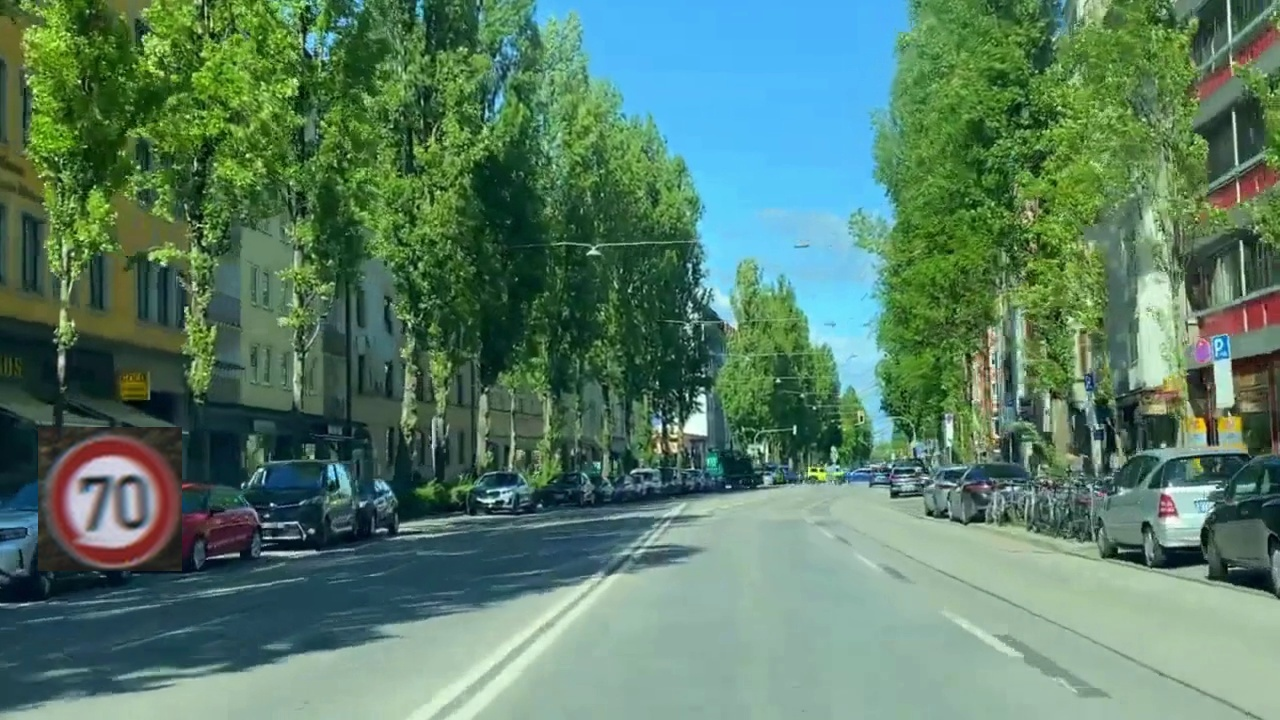Speed 70: (38, 427, 182, 571)
